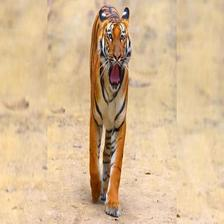tiger: (84, 12, 137, 221)
